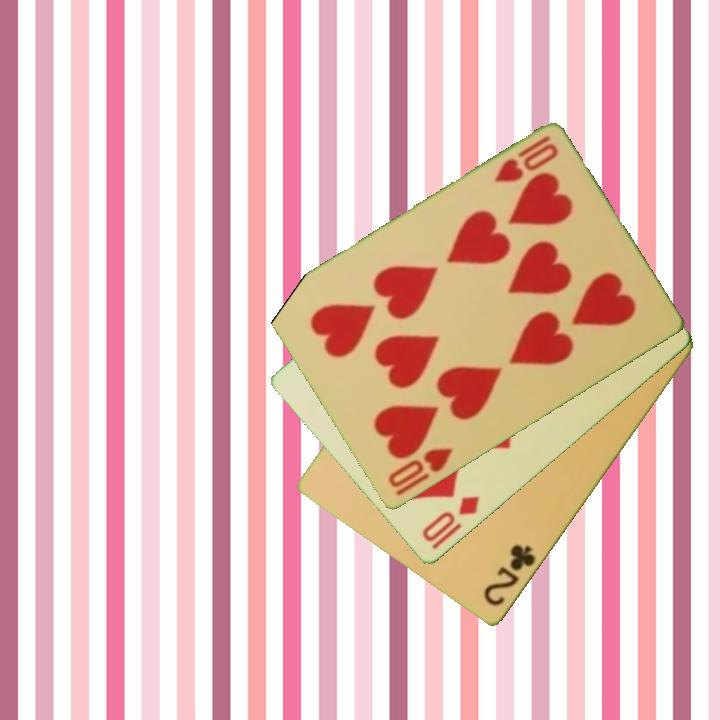10d: (418, 493, 483, 545)
10h: (490, 132, 561, 187), (384, 444, 457, 492)
2c: (480, 541, 539, 610)
